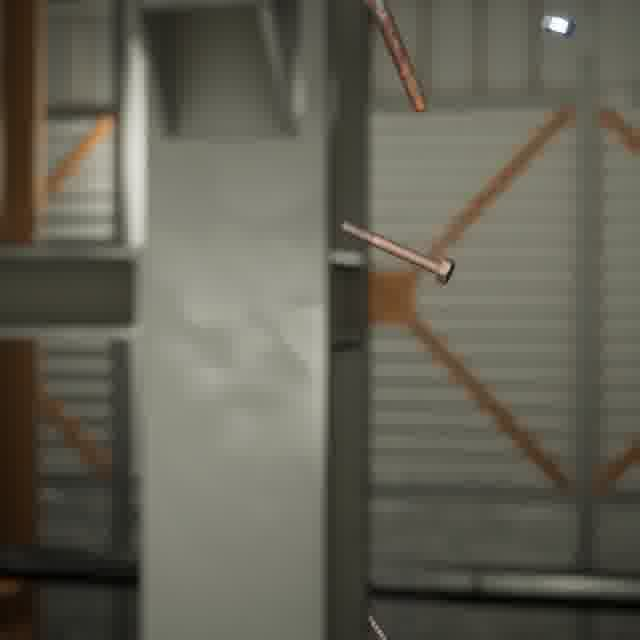bolt: (336, 216, 459, 288), (356, 0, 431, 116), (362, 609, 393, 640)
nut: (536, 11, 580, 41)
